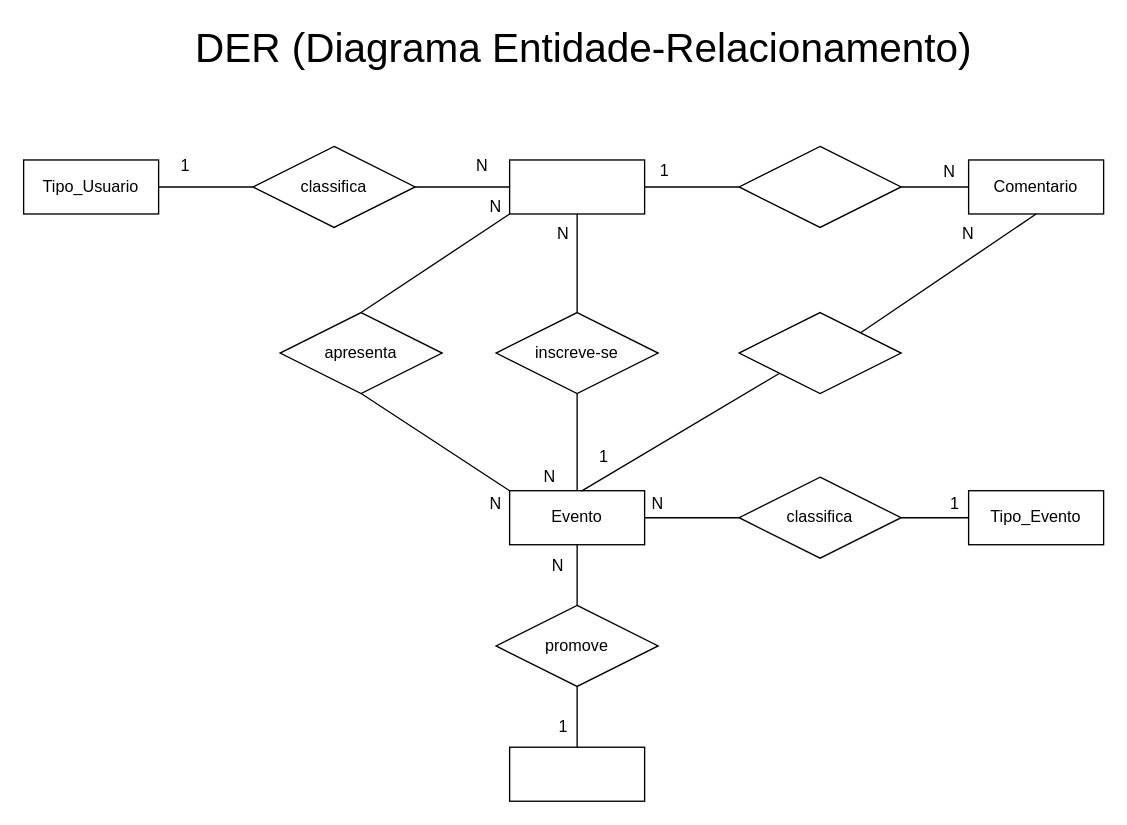
This 1127x825 diagram has some shape labels left out. Each missing label, with the centre of its shape:
"escreve" belongs at (x=819, y=186).
"Instituicao" belongs at (x=576, y=773).
"recebe" belongs at (x=819, y=352).
"Usuario" belongs at (x=576, y=186).
